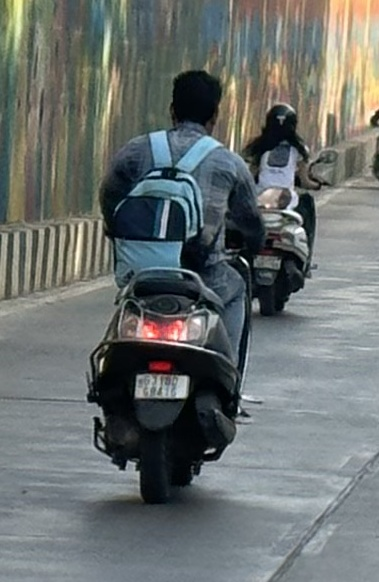BikeWithRider: (79, 63, 274, 508), (233, 97, 338, 320)
Helmet: (258, 99, 302, 141)
NoHelmet: (160, 64, 228, 136)
